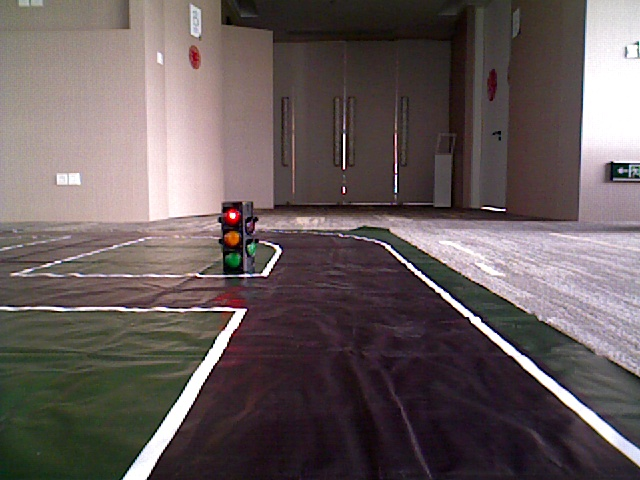red: (221, 206, 242, 271)
